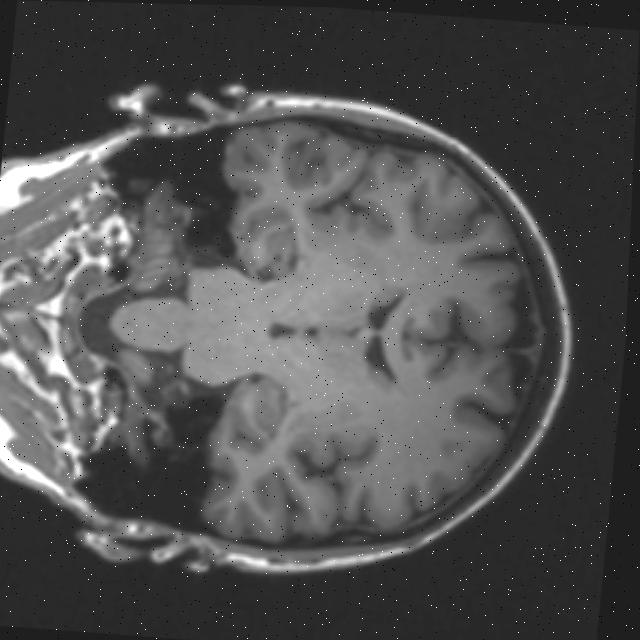NoTumor: (80, 76, 595, 601)
